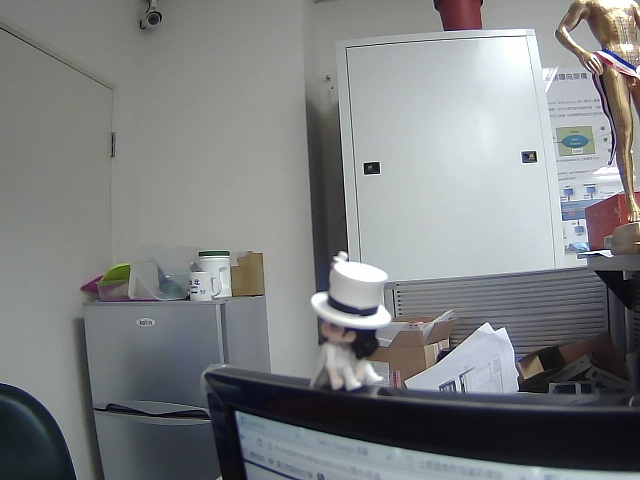lucci: (298, 246, 397, 403)
